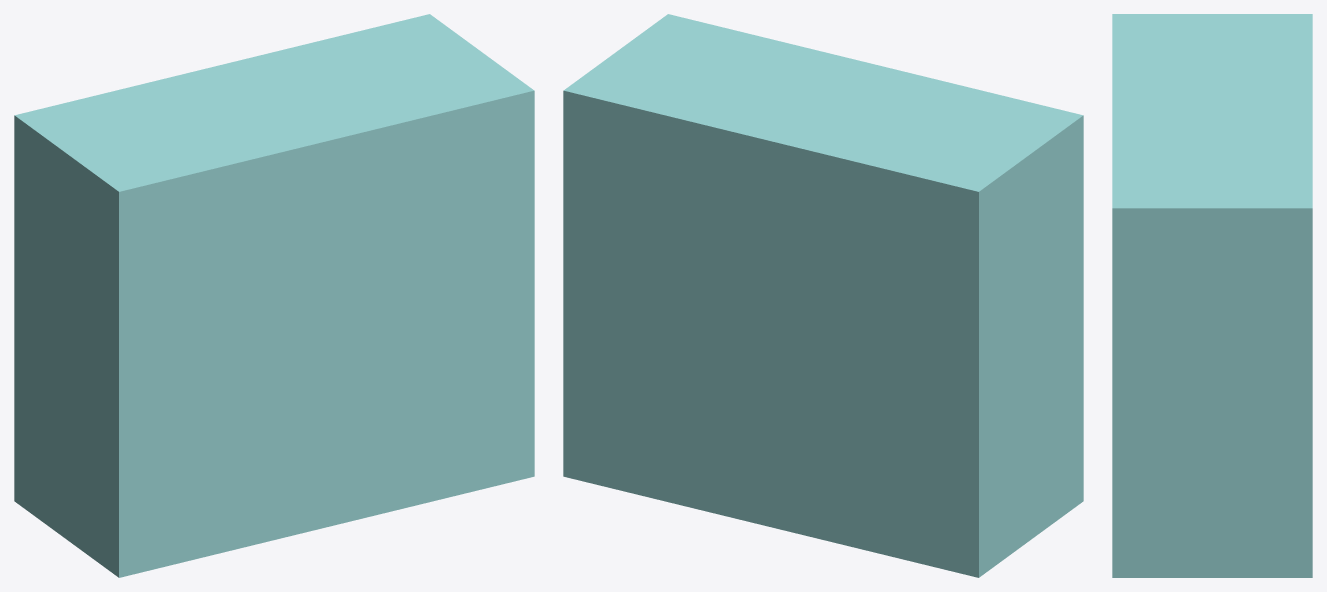
Rendered from walkway_02.DAE.
The picture shows the model from 3 angles, left to right: view 1: azimuth 30°, elevation 25°; view 2: azimuth 150°, elevation 25°; view 3: azimuth 270°, elevation 25°; orthographic projection. The views are drawn at different scales.
Visible parts, largest first — view 1: bounds; view 2: bounds; view 3: bounds.
Part boxes in pixels (left/top/right/bottom): bounds: left=14, top=14, right=534, bottom=577; bounds: left=563, top=14, right=1083, bottom=577; bounds: left=1112, top=14, right=1312, bottom=577.
Size of the model in its own units: 715 by 312 by 635.
